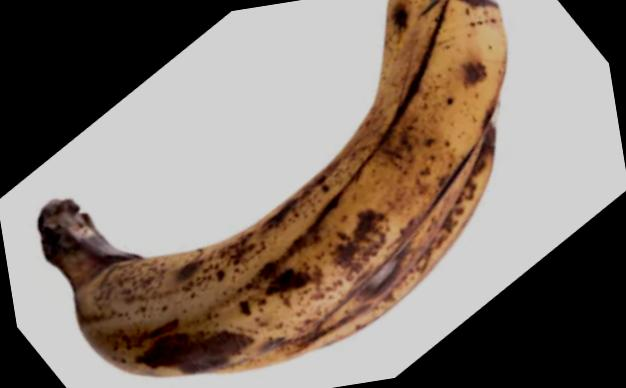Banana Overripe: (0, 0, 577, 388)
